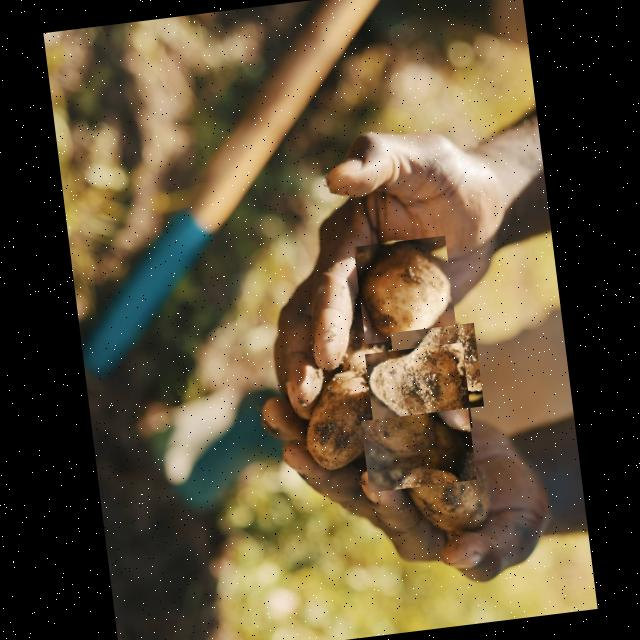Diseased-fungal potato: (354, 235, 456, 342), (364, 341, 472, 438), (297, 366, 392, 474), (361, 406, 476, 492), (399, 438, 494, 542), (389, 321, 484, 415)
